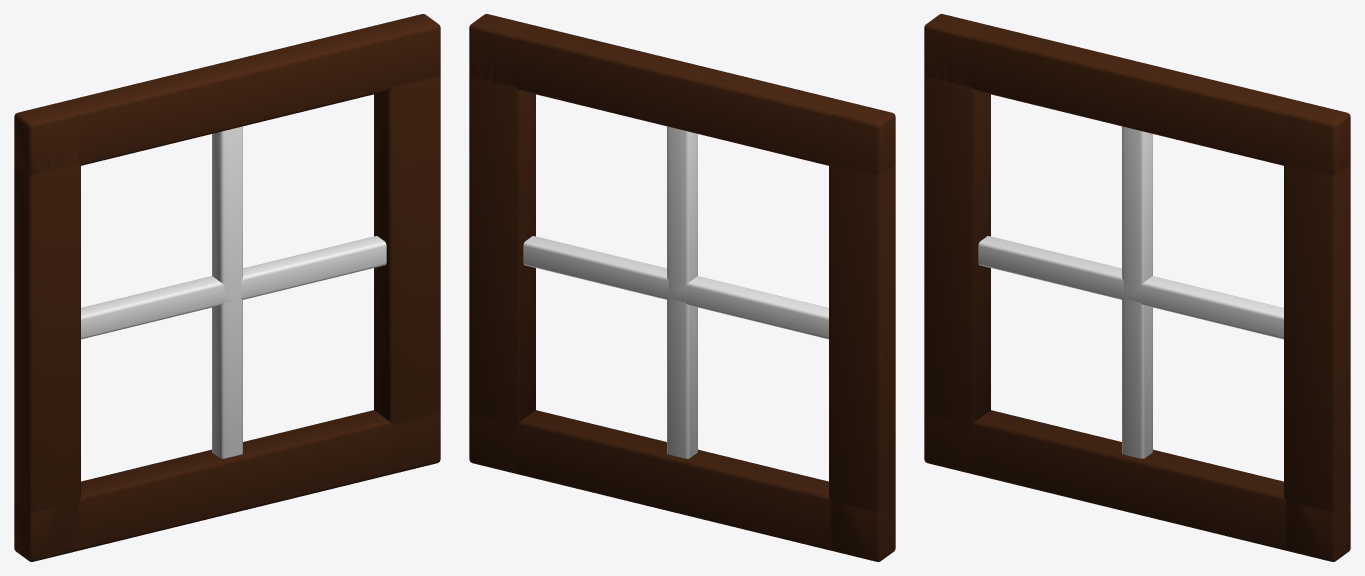
The model's file is window-frame-plank.obj.
3 views of the same model, side by side, from view 1: azimuth 30°, elevation 25°; view 2: azimuth 150°, elevation 25°; view 3: azimuth 330°, elevation 25° (orthographic).
Visible parts, largest first — view 1: window-frame-plank; view 2: window-frame-plank; view 3: window-frame-plank.
Part boxes in pixels (x1=…): window-frame-plank: x1=14, y1=14, x2=440, y2=561; window-frame-plank: x1=469, y1=14, x2=895, y2=561; window-frame-plank: x1=924, y1=14, x2=1350, y2=561.
Size of the model in its own units: 1.1 by 1.12 by 0.08.
